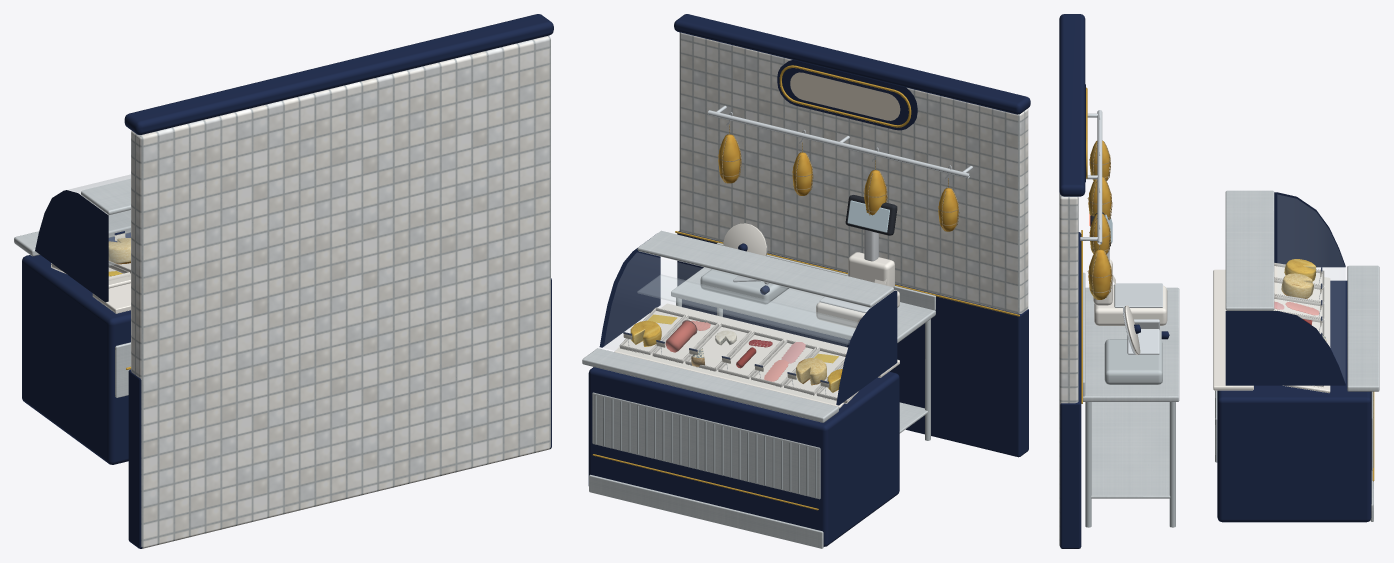
Rendered from sector-queijaria_T1.fbx.
The picture shows the model from 3 angles, left to right: view 1: azimuth 30°, elevation 25°; view 2: azimuth 150°, elevation 25°; view 3: azimuth 270°, elevation 25°; orthographic projection. The views are drawn at different scales.
Visible parts, largest first — view 1: Body; view 2: Body; view 3: Body.
Part boxes in pixels (bbox=[...]): Body: bbox=[14, 14, 553, 548]; Body: bbox=[582, 14, 1030, 548]; Body: bbox=[1059, 14, 1379, 548].
Size of the model in its own units: 2.54 by 2.48 by 1.98.
